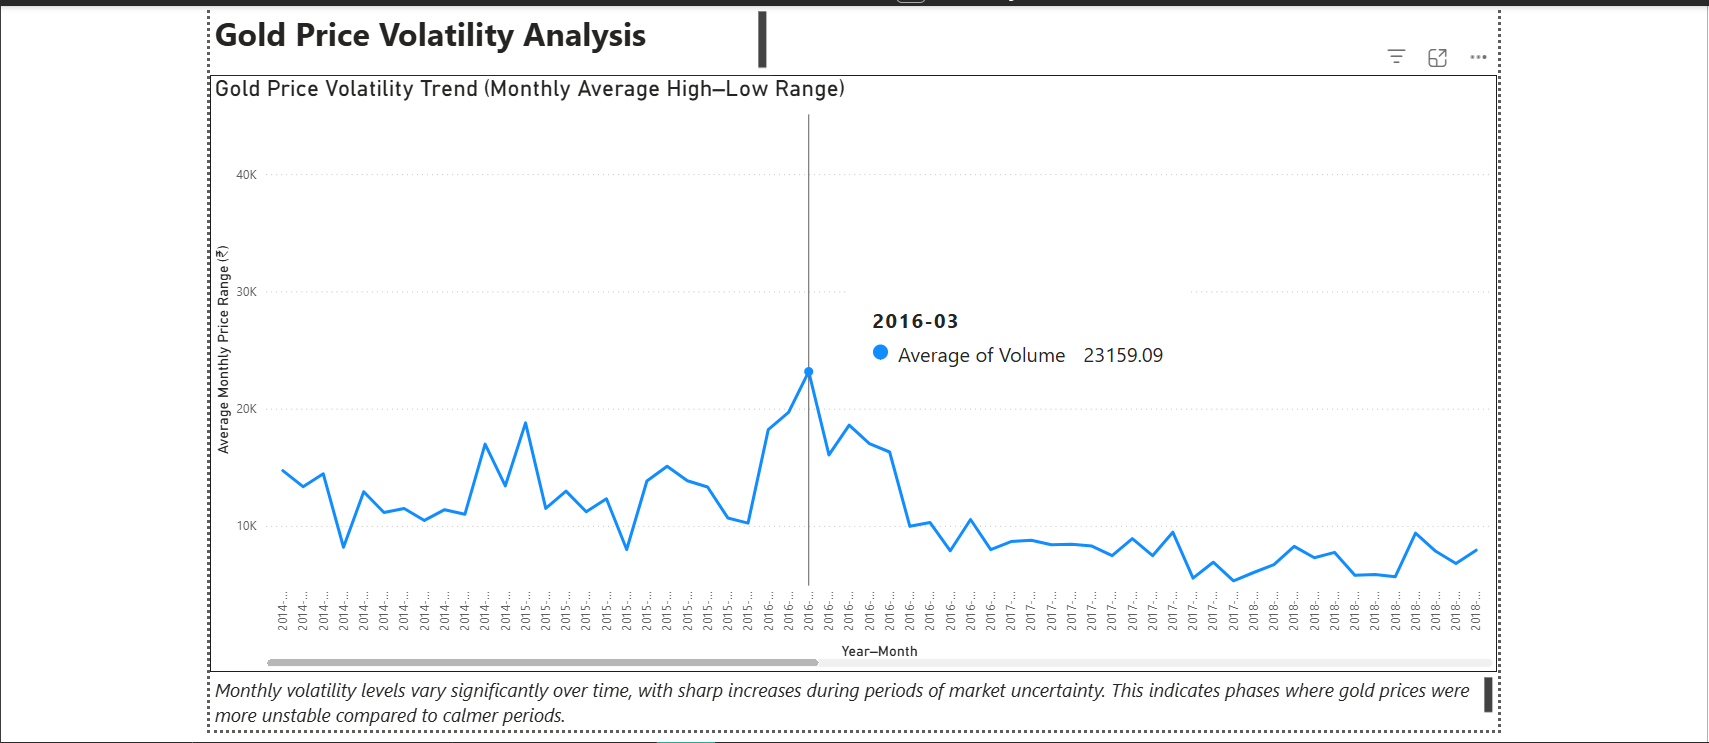

Layout of this report page (visuals, bound fields, positions):
{"tool":"powerbi","page":{"name":"Volatility Analysis","canvas":[1280,720],"ordinal":1},"visuals":[{"type":"lineChart","title":"Gold Price Volatility Trend (Monthly Average High–Low Range)","fields":{"Y":["Avg(gold_price_india.Volume)"],"Category":["gold_price_india.YearMonth"]},"box":[0,68.3,1280,593.3],"z":0},{"type":"textbox","box":[0,0,558.3,68.3],"z":1},{"type":"textbox","box":[0,661.7,1280,58.3],"z":2}]}

Visuals, with their boxes on the page's 1280x720 design canvas (x1, y1, x2, y2). These are canvas units, not pixel positions in the 1709x743 screenshot, which may show the page scaled, cropped or inside an application window:
"Gold Price Volatility Trend (Monthly Average High–Low Range)" lineChart: (0, 68, 1280, 662)
textbox: (0, 0, 558, 68)
textbox: (0, 662, 1280, 720)
